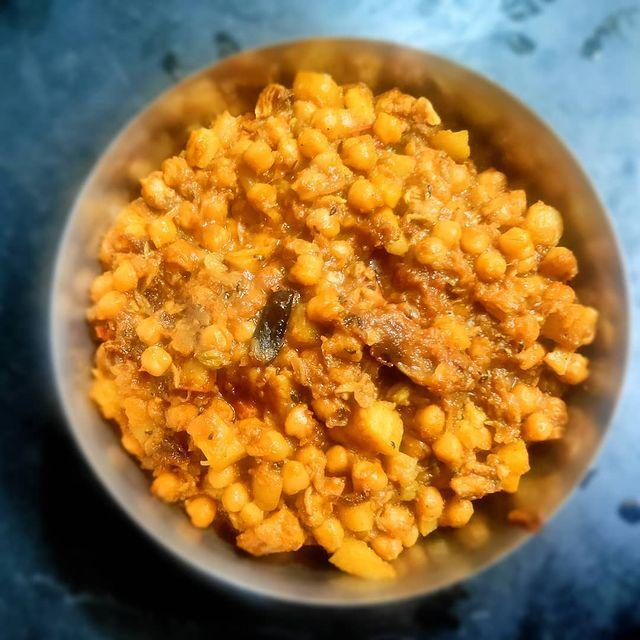Chole: (230, 104, 586, 564)
